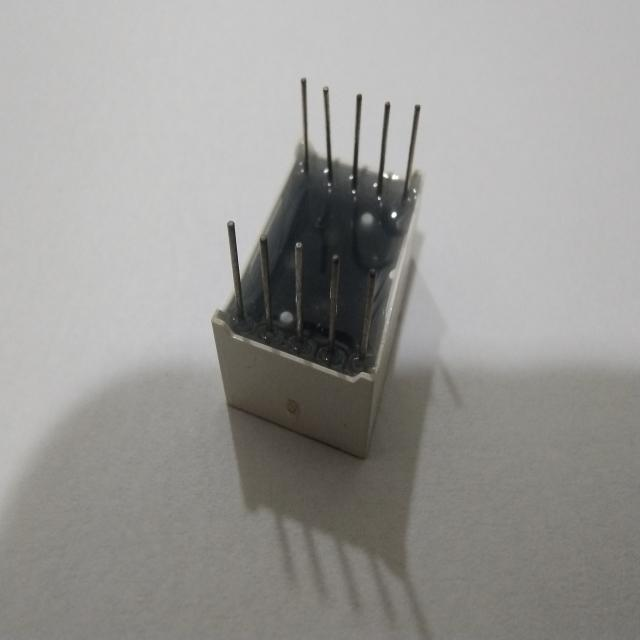7_segments: (198, 66, 430, 464)
